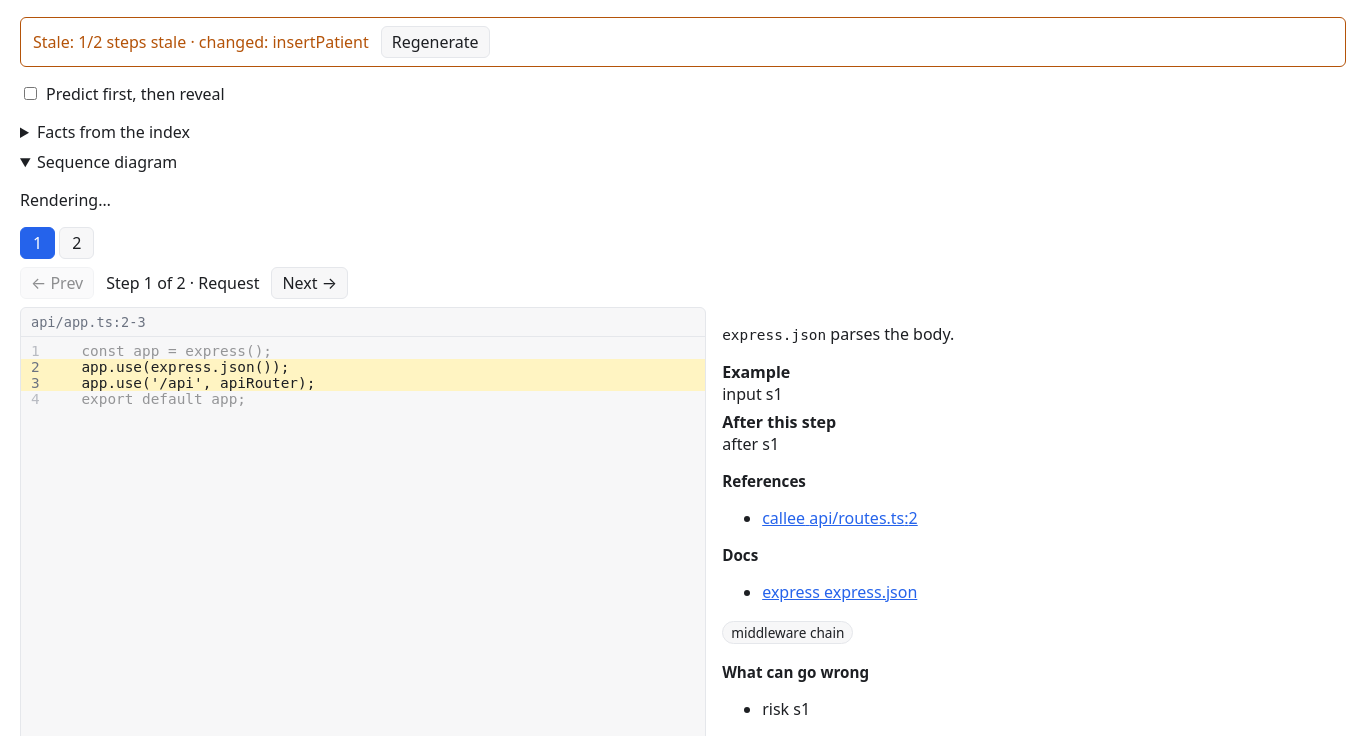
walkthrough reader › regenerates a stale walkthrough from the banner
The image size is (1366, 736).
(page scrolled)
Expected: the text "Stale: 1/2 steps stale · changed: insertPatient" is shown, [33, 31, 369, 53]
Click the button "Regenerate" at coordinates (435, 42), box [381, 26, 490, 58]
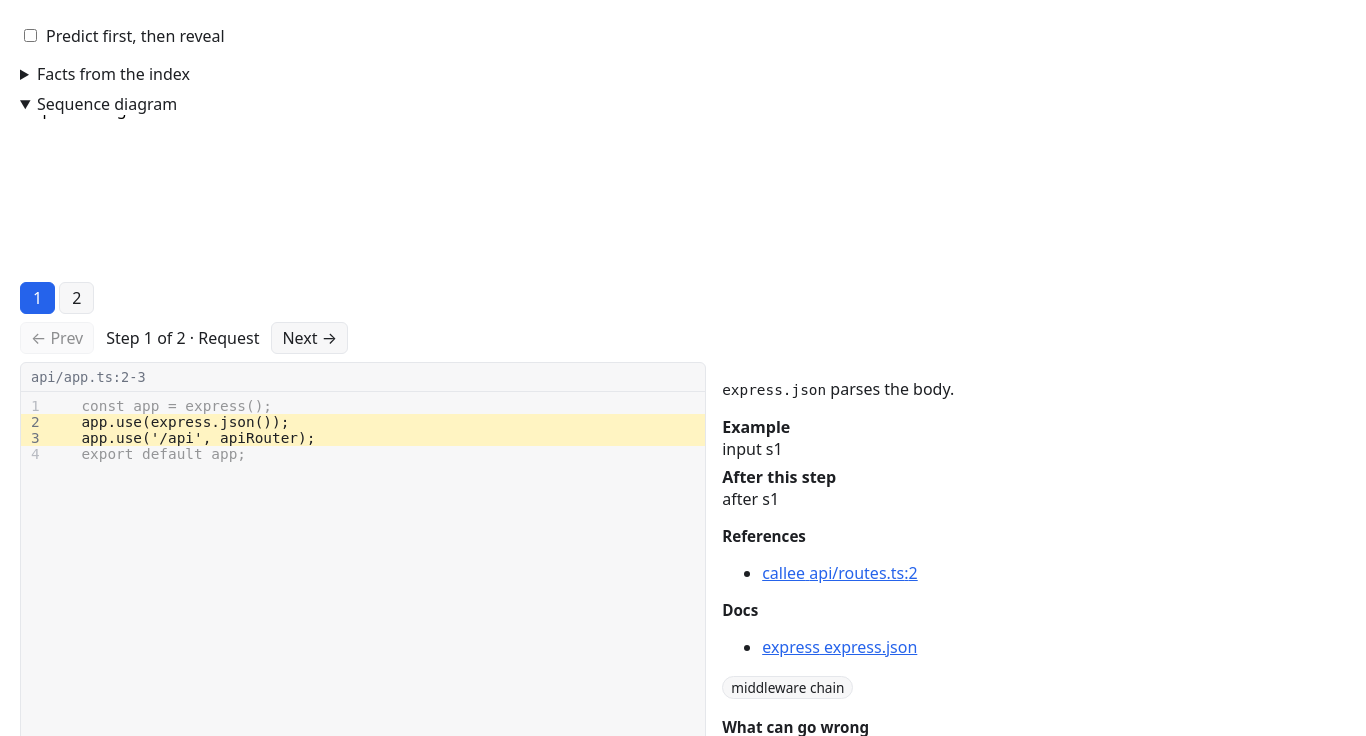
Expected: the text "Step 1 of 2 · Request" is shown, [106, 327, 259, 349]
Result: the button "Regenerate" is gone
